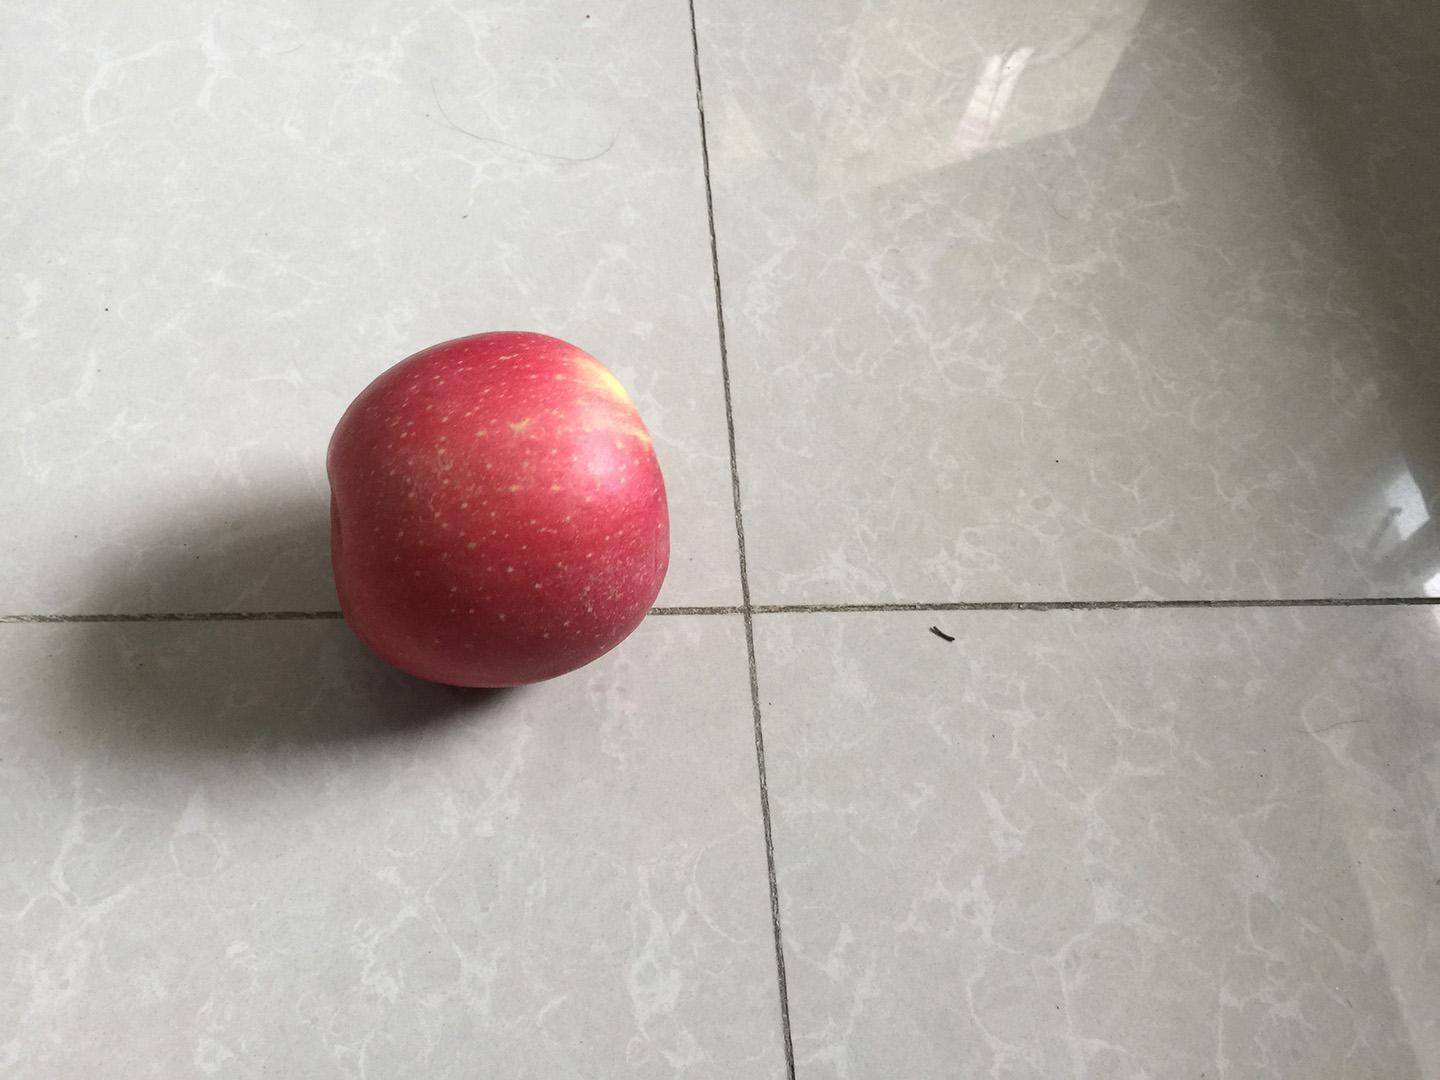apple: (323, 324, 680, 695)
